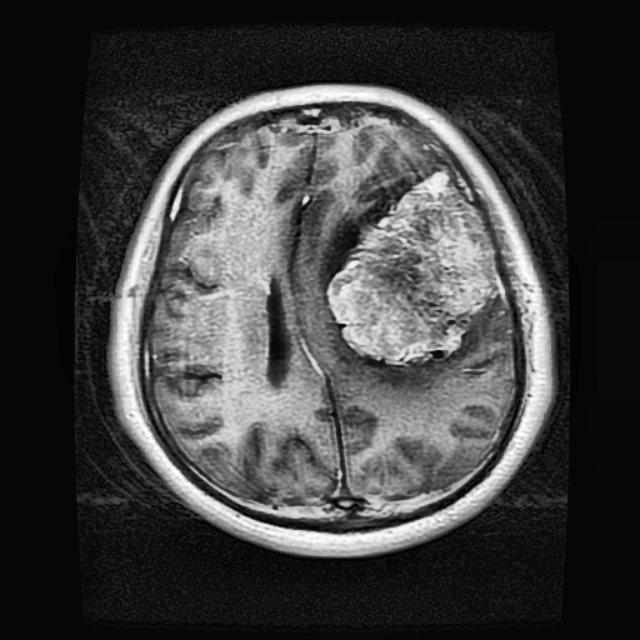Pituitary: (328, 172, 500, 363)
